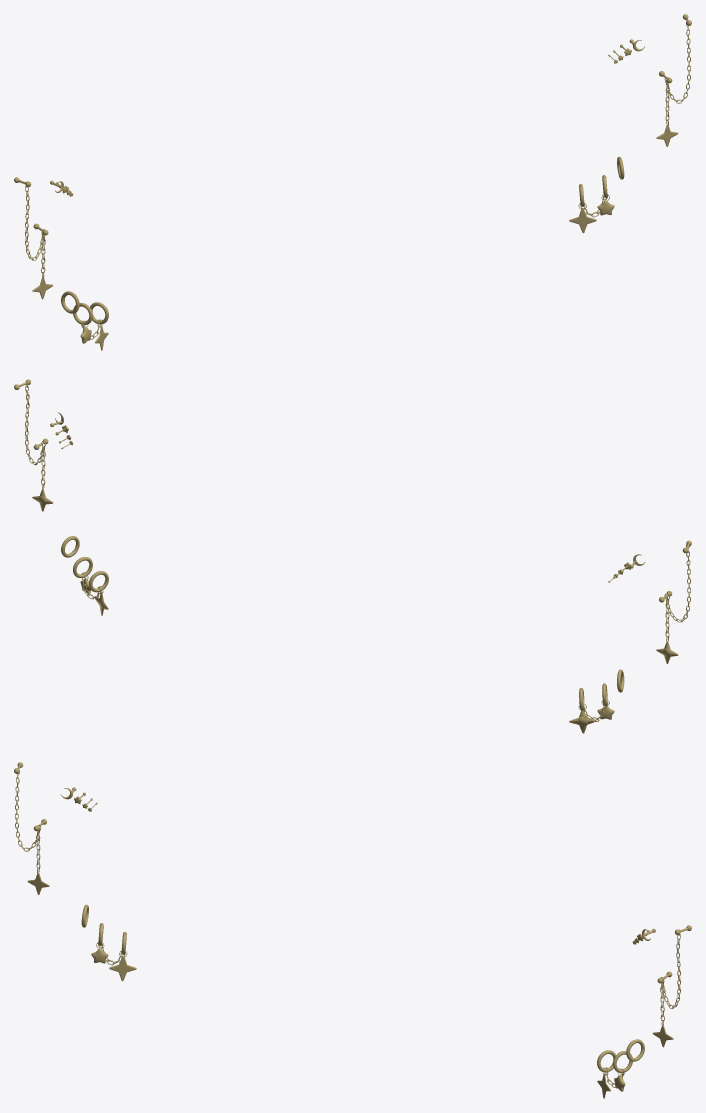
File: earRing.fbx
3 renders of one model, top to bottom at view 1: azimuth 30°, elevation 25°; view 2: azimuth 150°, elevation 25°; view 3: azimuth 330°, elevation 25°, orthographic.
Visible parts, largest first — view 1: Earrings; view 2: Earrings; view 3: Earrings.
Boxes of the visible parts, x1=… form: Earrings: x1=14, y1=14, x2=691, y2=350; Earrings: x1=14, y1=379, x2=691, y2=733; Earrings: x1=14, y1=762, x2=691, y2=1098.
Bounding box in the file's own units: 20.45 × 5.88 × 1.32.
